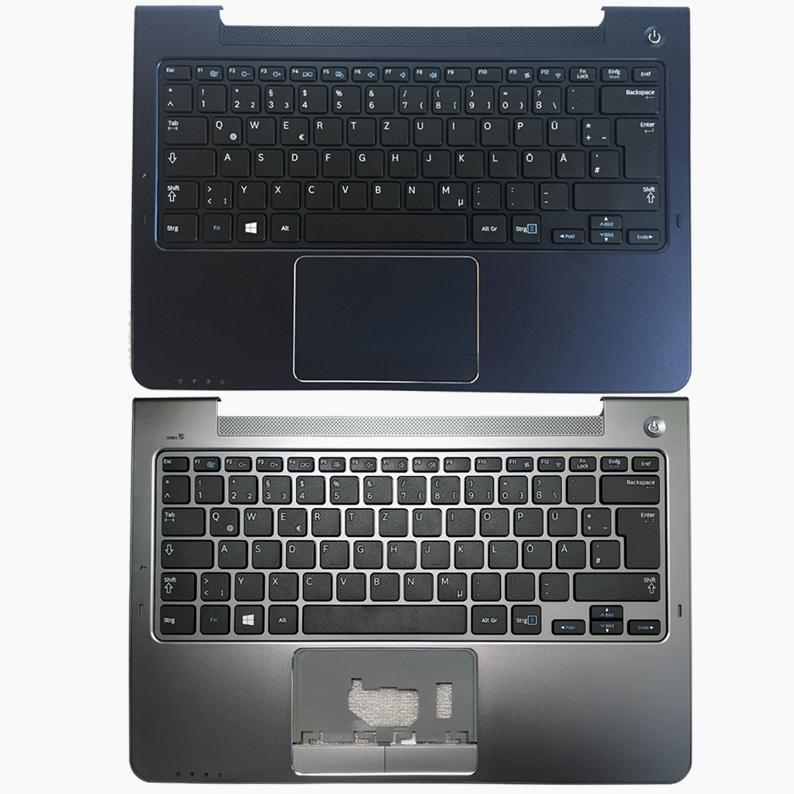0: (498, 474, 529, 504), (495, 82, 525, 112)
1: (194, 82, 224, 111), (194, 475, 224, 504)
2: (228, 82, 259, 111), (228, 475, 258, 504)
3: (261, 82, 292, 111), (262, 475, 293, 504)
4: (295, 82, 325, 111), (295, 475, 325, 504)
5: (329, 475, 359, 504), (329, 83, 358, 111)
6: (363, 476, 394, 505), (362, 83, 392, 112)
7: (397, 475, 428, 504), (396, 83, 425, 112)
8: (430, 476, 461, 505), (429, 83, 458, 112)
9: (464, 475, 495, 504), (462, 83, 492, 112)
a: (217, 539, 248, 569), (217, 146, 248, 175)
accent: (565, 474, 595, 504), (563, 83, 593, 112)
ae: (553, 537, 585, 567), (553, 147, 584, 177)
alt-left: (268, 211, 299, 241), (266, 603, 297, 633)
altgr-right: (470, 605, 509, 635), (469, 211, 506, 241)
b: (367, 570, 398, 600), (369, 179, 399, 208)
c: (300, 569, 331, 600), (302, 178, 332, 208)
caret: (160, 81, 190, 110), (162, 475, 190, 504)
comma: (469, 569, 499, 599), (469, 179, 499, 208)
d: (285, 146, 315, 176), (283, 537, 313, 567)
del: (598, 475, 660, 504), (599, 83, 659, 111)
e: (276, 507, 307, 537), (277, 114, 307, 144)
enter: (614, 114, 661, 178), (615, 506, 661, 570)
f: (317, 538, 347, 567), (321, 148, 351, 177)
g: (351, 537, 381, 567), (352, 147, 382, 176)
h: (387, 539, 417, 569), (387, 149, 416, 178)
hash: (589, 538, 621, 568), (587, 147, 617, 176)
i: (446, 508, 476, 538), (444, 115, 474, 144)
j: (420, 540, 450, 570), (422, 148, 451, 177)
k: (454, 539, 484, 569), (454, 149, 484, 178)
keyboard: (146, 441, 673, 645), (148, 54, 670, 252)
l: (488, 539, 518, 569), (486, 147, 515, 176)
less: (200, 178, 231, 208), (198, 569, 229, 599)
m: (434, 570, 465, 600), (436, 179, 465, 209)
minus: (536, 570, 567, 599), (536, 179, 566, 208)
n: (401, 570, 432, 600), (402, 179, 432, 208)
o: (479, 508, 510, 538), (477, 115, 507, 144)
oe: (519, 537, 550, 567), (519, 147, 549, 176)
p: (511, 505, 542, 535), (511, 115, 541, 145)
plus: (581, 507, 612, 537), (580, 117, 611, 147)
point: (503, 569, 534, 599), (502, 179, 533, 208)
q: (210, 507, 241, 537), (209, 114, 240, 144)
r: (309, 506, 340, 536), (311, 115, 341, 144)
s: (251, 539, 282, 569), (252, 146, 282, 176)
shift-left: (156, 178, 196, 208), (160, 571, 198, 601)
shift-lock: (160, 538, 214, 569), (160, 146, 213, 175)
shift-right: (571, 569, 659, 602), (571, 179, 659, 209)
space: (300, 602, 466, 633), (304, 214, 468, 244)
ss: (532, 474, 563, 504), (529, 83, 559, 112)
strg-left: (155, 602, 194, 634), (162, 213, 197, 242)
strg-right: (511, 604, 542, 634), (512, 214, 541, 244)
t: (344, 507, 375, 537), (344, 115, 374, 144)
tab: (161, 506, 206, 536), (160, 113, 205, 142)
u: (412, 508, 443, 538), (411, 115, 441, 145)
ue: (544, 115, 575, 145), (547, 506, 578, 536)
v: (336, 572, 367, 602), (336, 179, 366, 208)
w: (244, 506, 274, 536), (243, 114, 273, 143)
x: (266, 569, 297, 600), (269, 178, 299, 208)
y: (232, 570, 263, 600), (235, 179, 265, 208)
z: (378, 507, 409, 537), (378, 115, 408, 145)
